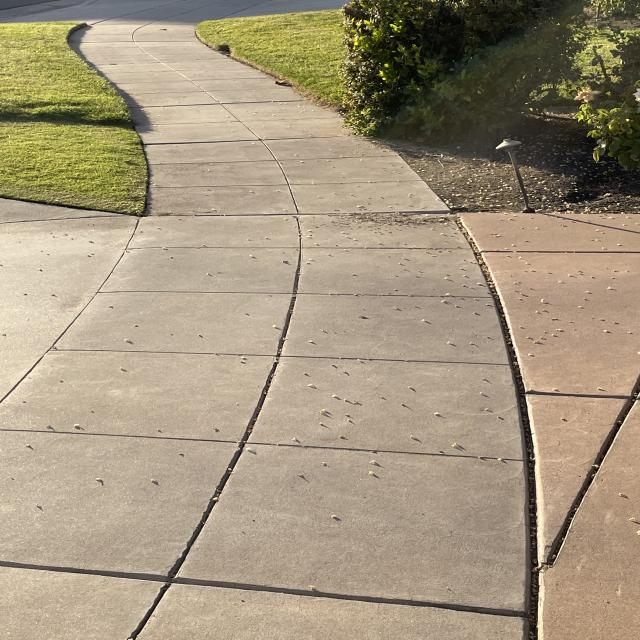walkway: (9, 348, 556, 515), (6, 483, 536, 640), (40, 267, 523, 392), (106, 211, 487, 280), (144, 153, 446, 225), (135, 106, 345, 156), (119, 76, 299, 108), (87, 52, 247, 82), (93, 32, 220, 66)
